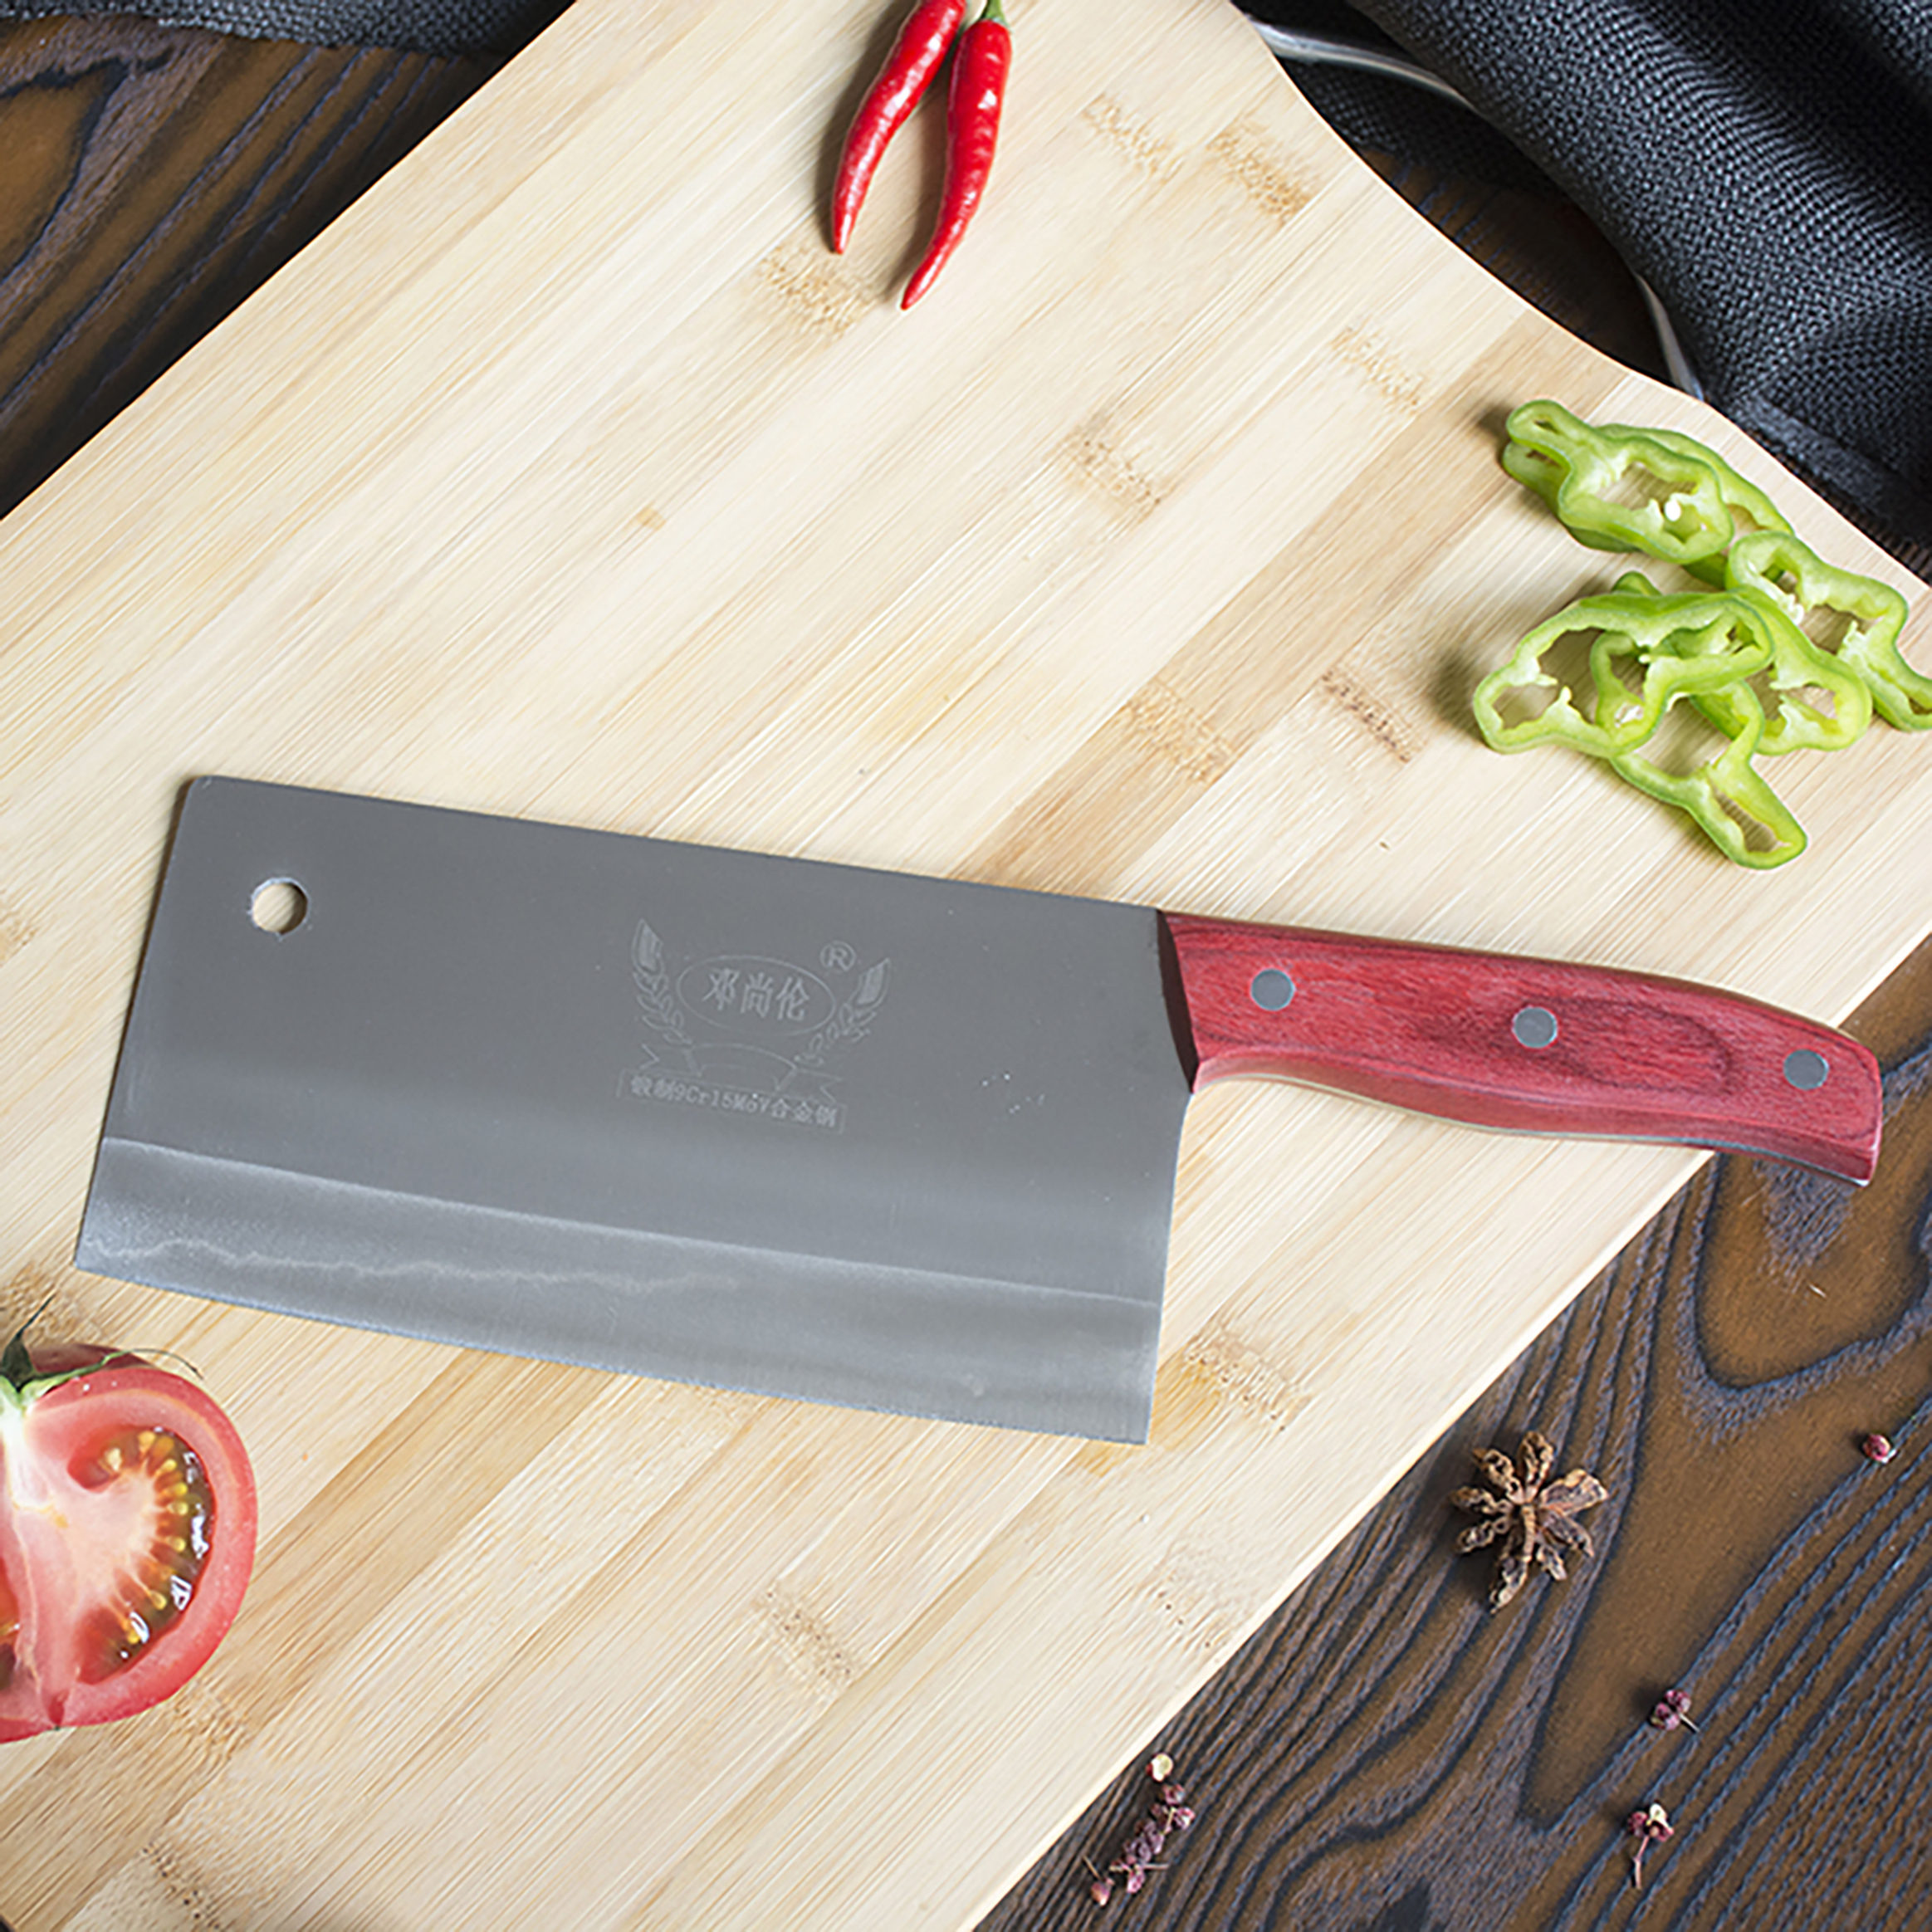knief: (124, 683, 1863, 1468)
